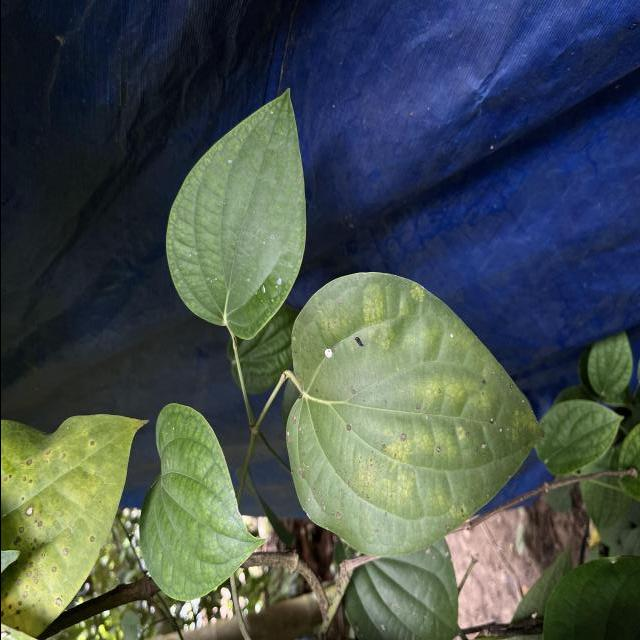Piper nigrum: (282, 268, 546, 559), (164, 86, 307, 342), (136, 401, 268, 602)
